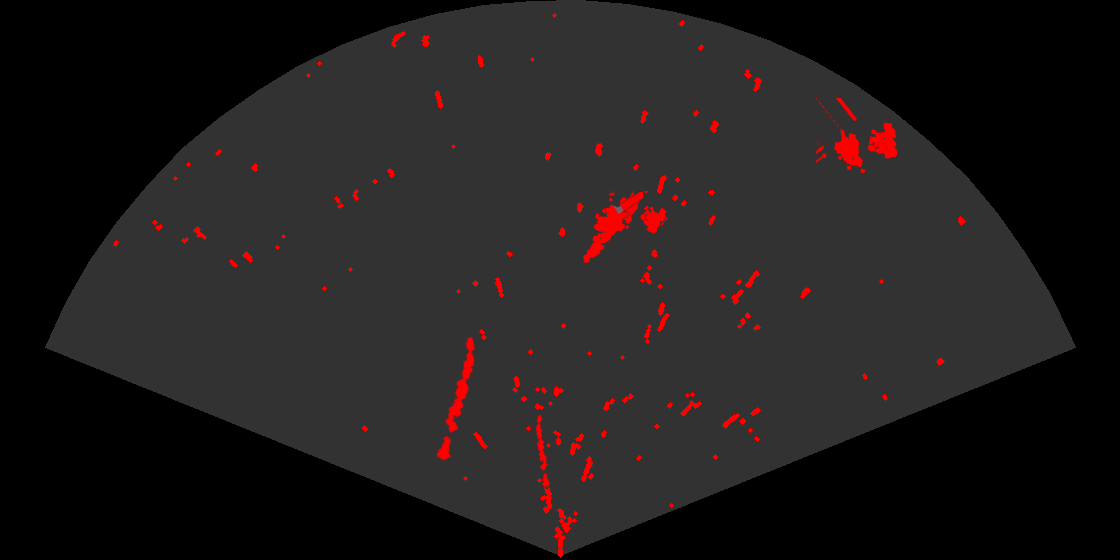cage: (816, 98, 899, 175), (609, 191, 668, 235)
chain: (435, 335, 477, 463), (534, 413, 552, 489)
frogman: (581, 192, 643, 265)
